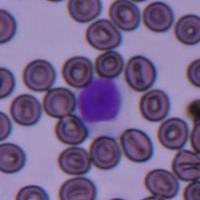L: (77, 77, 124, 124)
